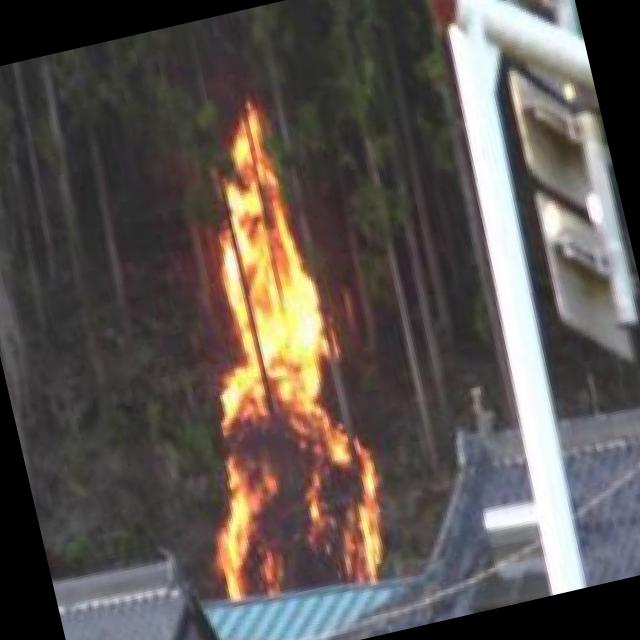Fire: (120, 97, 406, 617)
